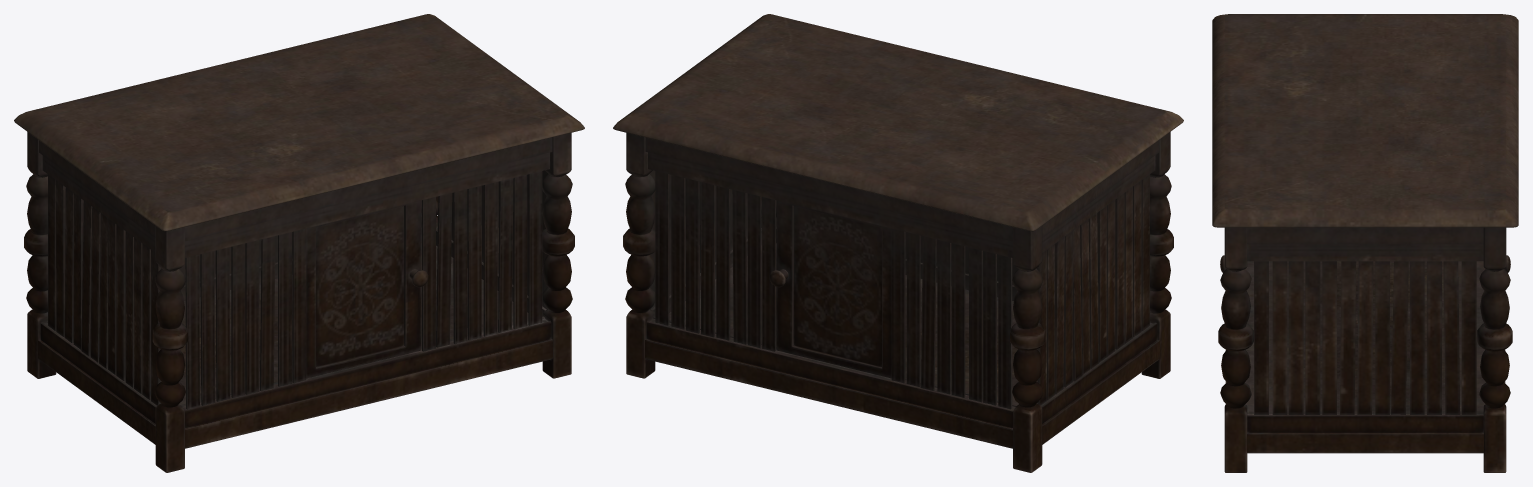
Rendered from gallinera_table.gltf.
The picture shows the model from 3 angles, left to right: view 1: azimuth 30°, elevation 25°; view 2: azimuth 150°, elevation 25°; view 3: azimuth 270°, elevation 25°; orthographic projection.
Visible parts, largest first — view 1: gallinera_table, gallinera_table_door_a; view 2: gallinera_table, gallinera_table_door_b; view 3: gallinera_table.
Boxes of the visible parts, x1,y1,x2,y2 form: gallinera_table: (14,14,584,472); gallinera_table_door_a: (306,200,428,378); gallinera_table: (613,14,1183,472); gallinera_table_door_b: (769,200,891,378); gallinera_table: (1212,14,1518,472).
Bounding box in the file's own units: 0.8301 × 0.4878 × 0.5183.
1 material, 1 textured.
